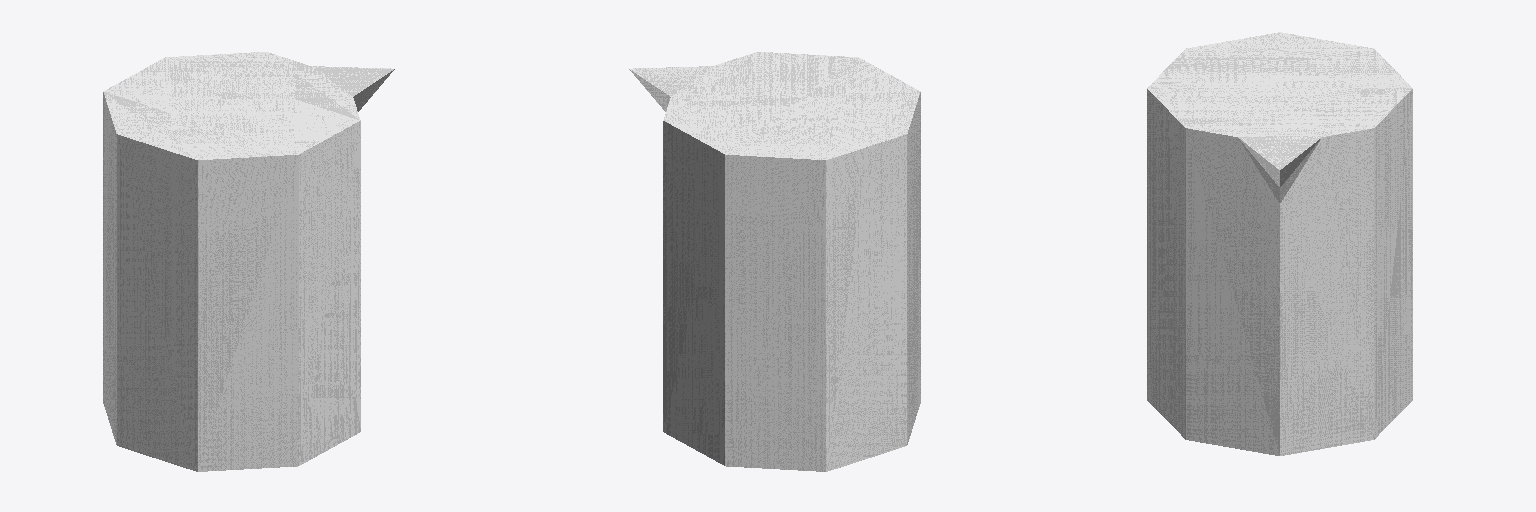
The model's file is Beaker_Highlight.obj.
3 renders of one model, left to right at view 1: azimuth 30°, elevation 25°; view 2: azimuth 150°, elevation 25°; view 3: azimuth 270°, elevation 25°, orthographic.
Visible parts, largest first — view 1: Mesh1 Model; view 2: Mesh1 Model; view 3: Mesh1 Model.
Part boxes in pixels (left/top/right/bottom): Mesh1 Model: left=103, top=52, right=394, bottom=471; Mesh1 Model: left=629, top=52, right=920, bottom=471; Mesh1 Model: left=1147, top=32, right=1412, bottom=455.
Bounding box in the file's own units: 0.1218 × 0.1302 × 0.1008.